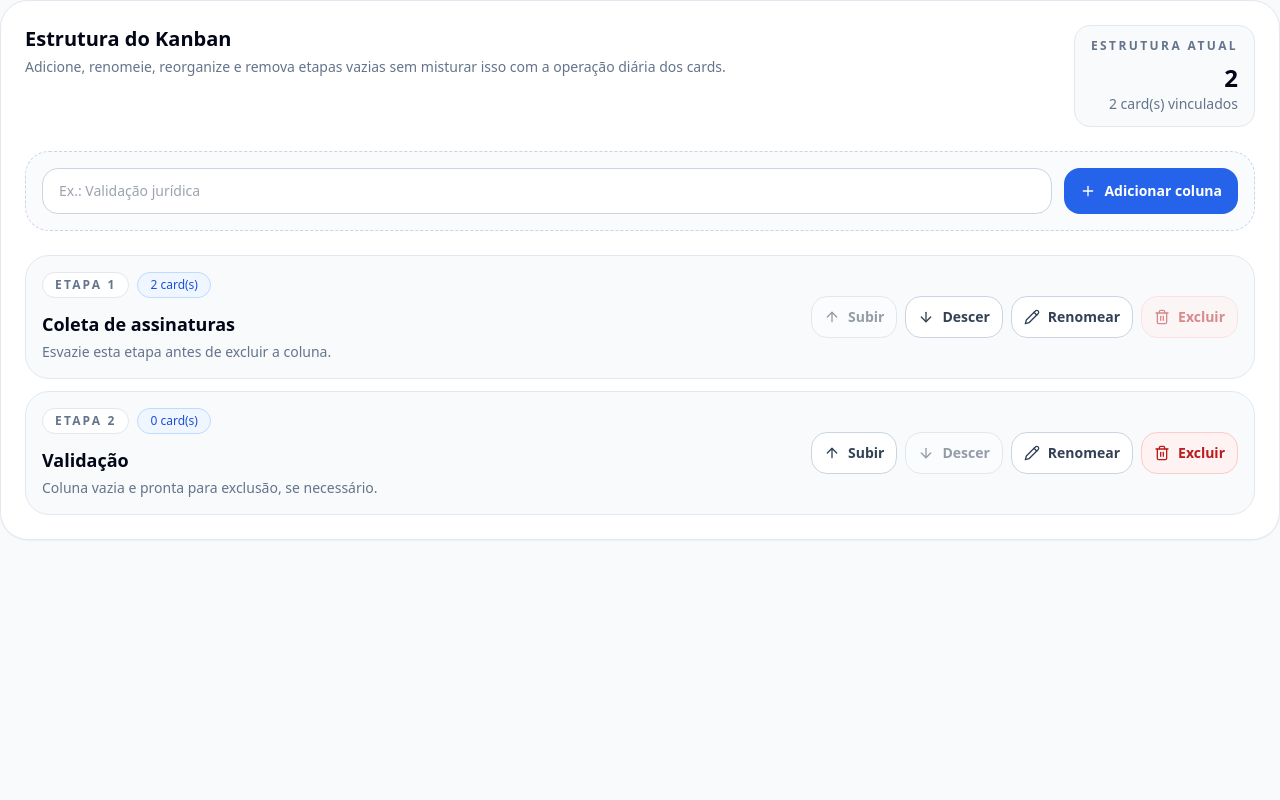
KanbanColumnManager › creates a new column and refreshes the parent state
The width and height of the screenshot is (1280, 800).
Expected: the text "Coleta de assinaturas" is shown, [42,312,235,336]
In the field with placeholder "Ex.: Validação jurídica": (547, 191) [42,168,1052,214], type "Mobilização"
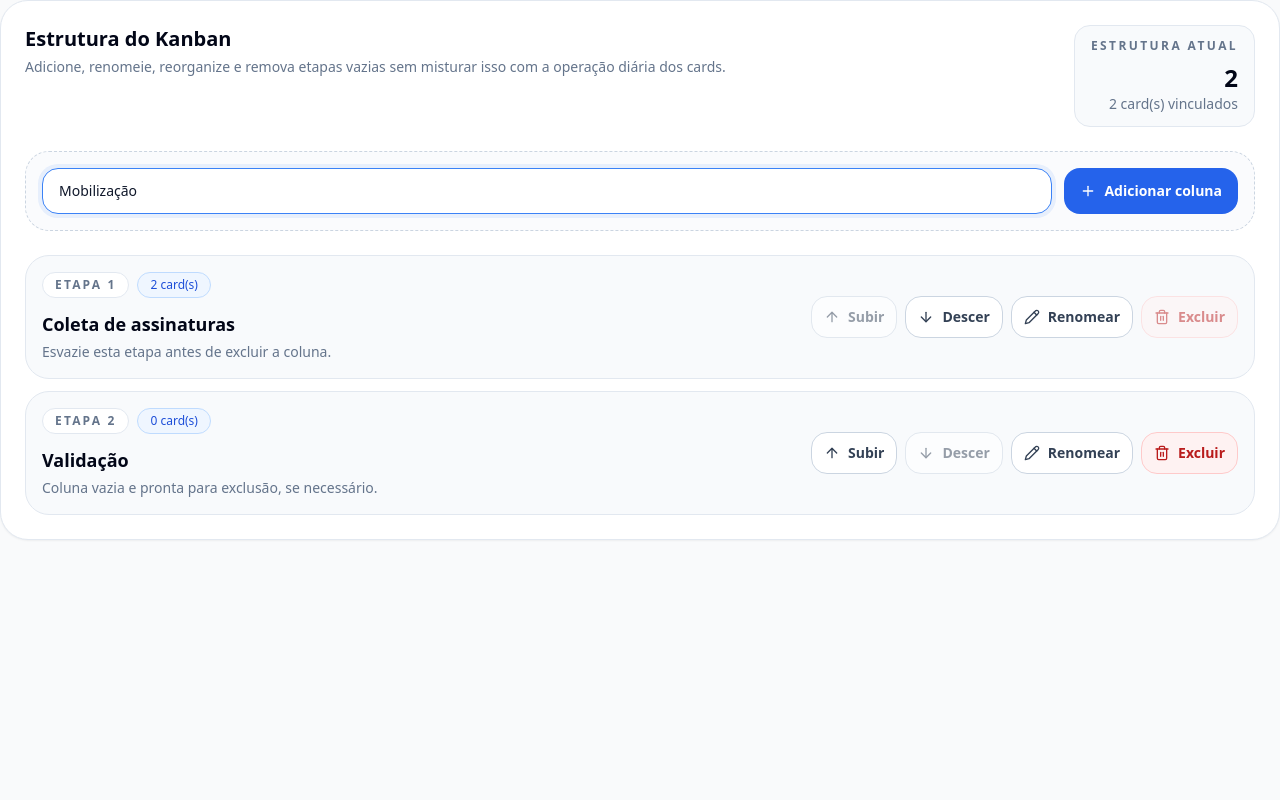
Click the button "Adicionar coluna": (1151, 191) [1064,168,1238,214]
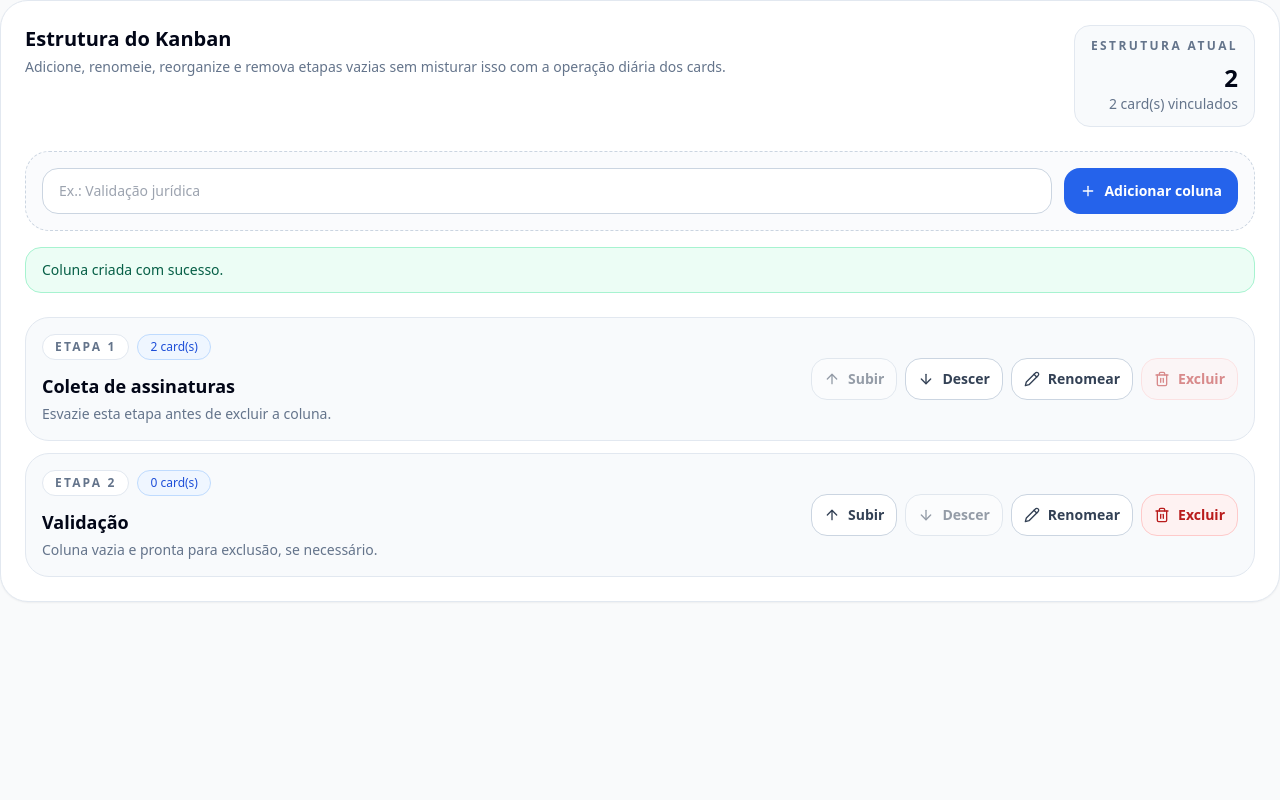
Expected: the text "Coluna criada com sucesso." is shown, [25,247,1255,293]
